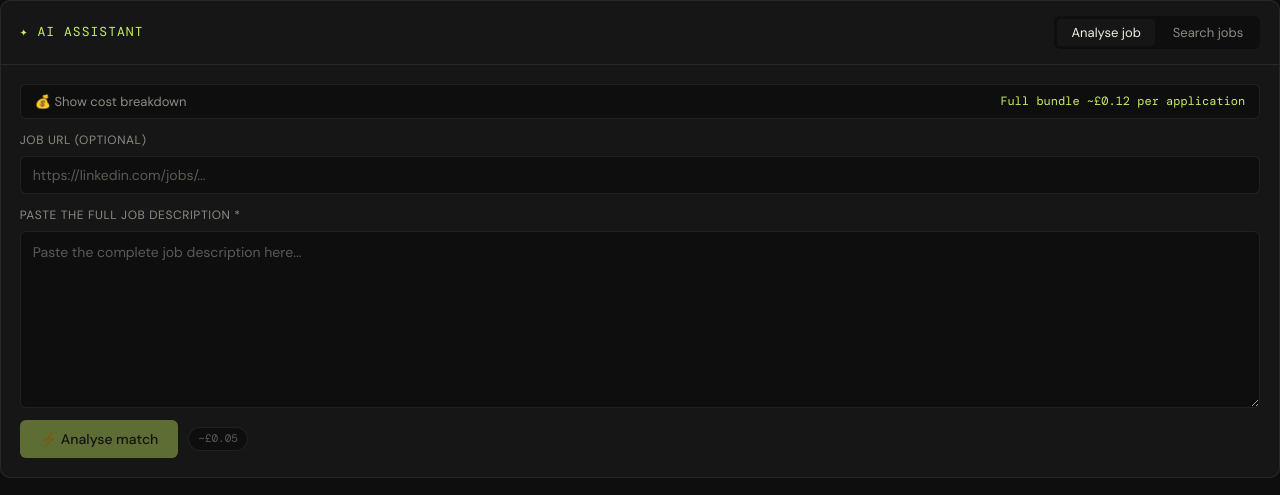
AIPanel › search jobs › shows a message when no qualifying jobs are found
This screenshot has width=1280, height=495.
Step 1. Click the button "Search jobs" → (1208, 32), box [1159,19,1257,46]
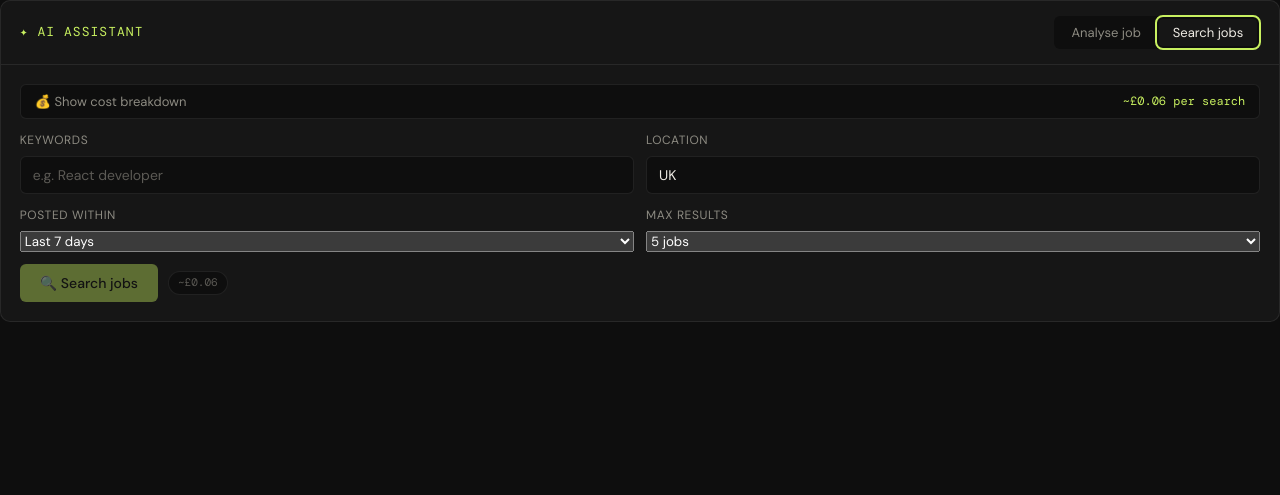
Step 2. Type "React developer" into the field with placeholder "e.g. React developer" → (327, 175), box [20,156,634,194]
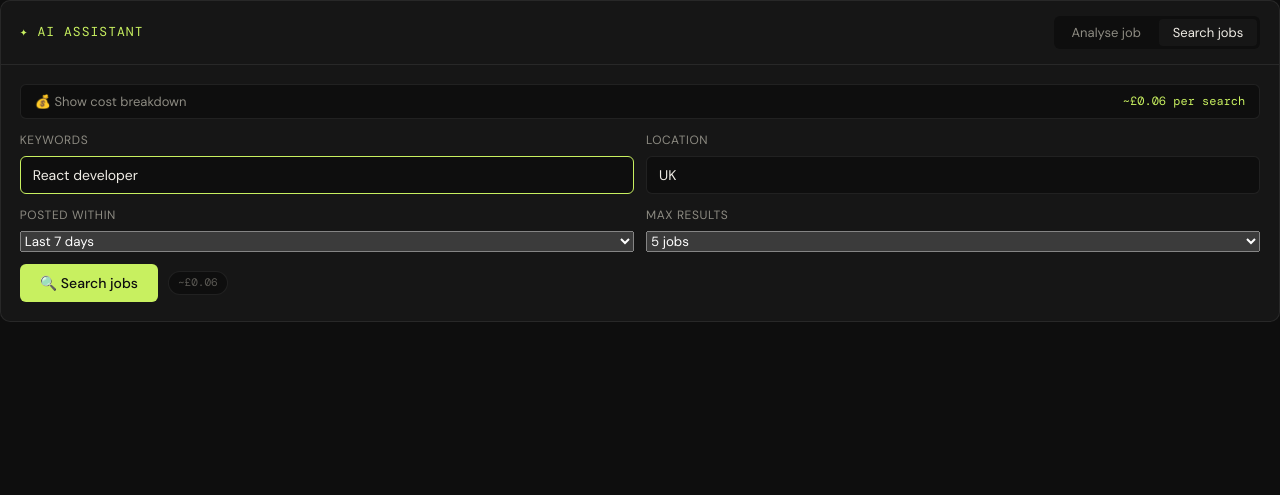
Step 3. Click the button "🔍 Search jobs" → (89, 283), box [20,264,158,302]
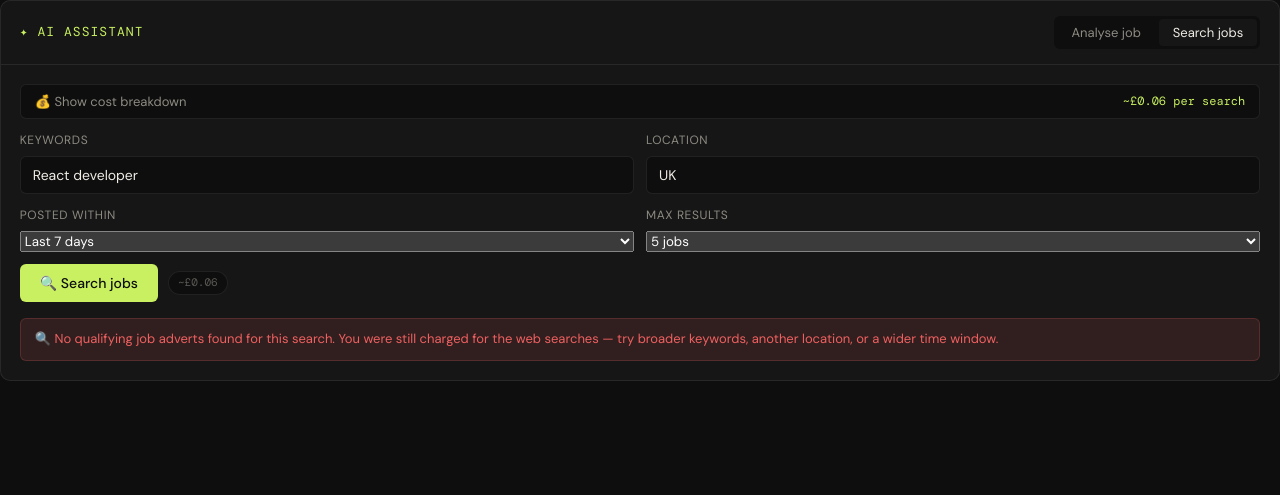
Result: the text "No qualifying job adverts found" is shown at [35,330,998,347]
